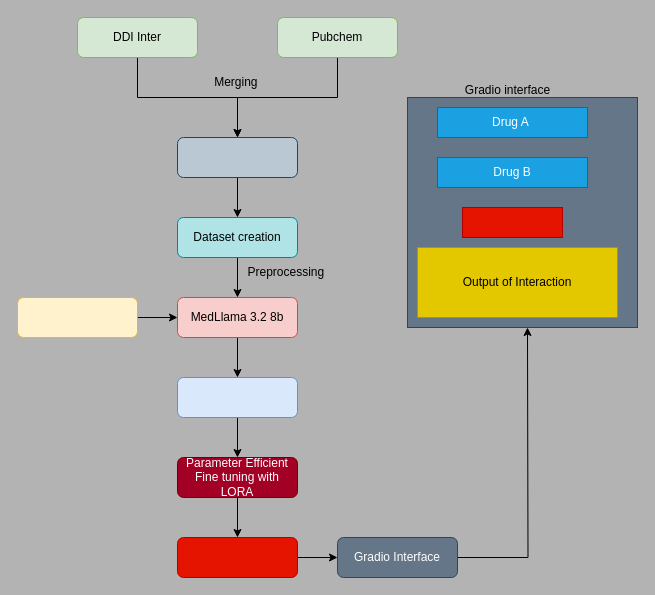
Some shapes in this 655 by 595 pixel diagram are drawn without their labels. Each missing label, with the box of its shape:
CHATGPT 4o: (176, 136, 298, 178)
Finetuned Medllama with Custom dataset: (176, 536, 298, 578)
Hugging face: (16, 296, 138, 338)
Submit: (462, 206, 562, 238)
Training: (176, 376, 298, 418)
